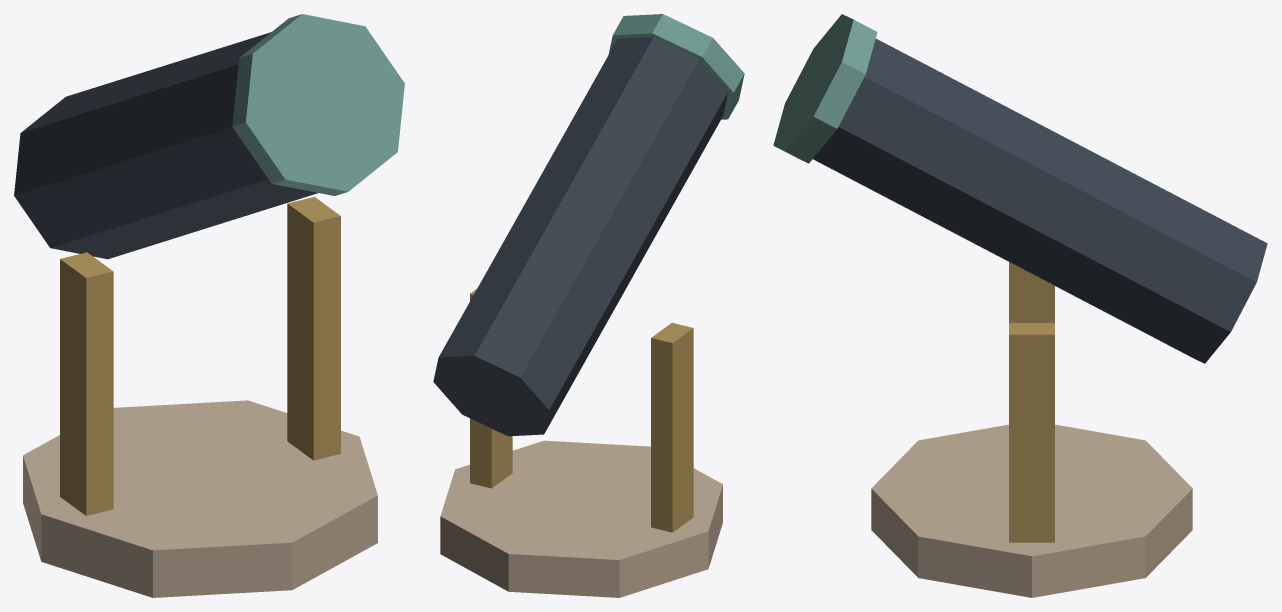
Rendered from telescope.glb.
3 views of the same model, side by side, from view 1: azimuth 30°, elevation 25°; view 2: azimuth 150°, elevation 25°; view 3: azimuth 270°, elevation 25° (orthographic). The views are drawn at different scales.
Parts seen in each view (by area): view 1: telescope; view 2: telescope; view 3: telescope.
Part boxes in pixels (x1,y1,x2,y2): telescope: (14,14,404,597); telescope: (433,14,744,597); telescope: (773,14,1267,597).
Size of the model in its own units: 1.4 by 2.45 by 2.15.
